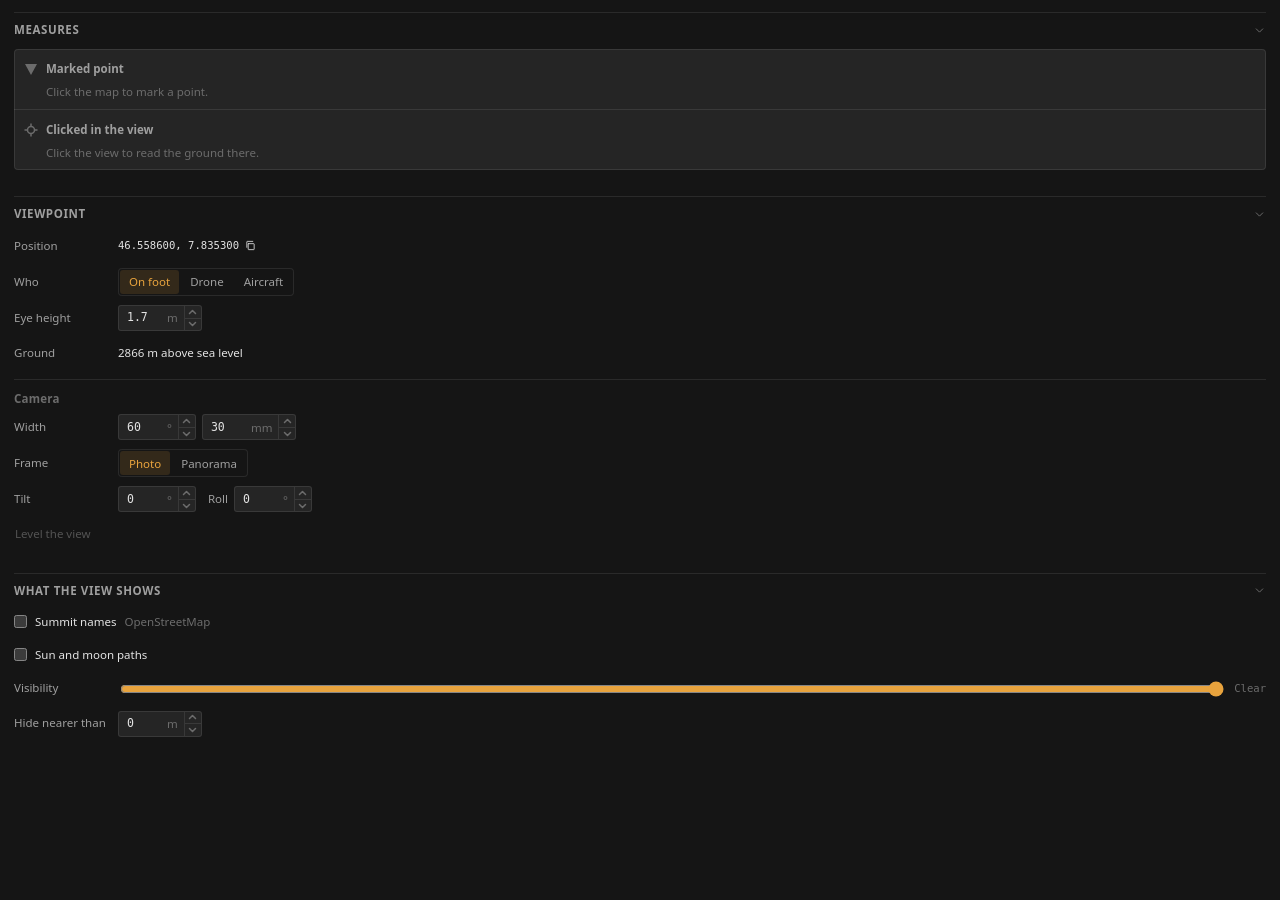
Test: the Horizon inspector › says which kind of eye is pressed, and names its height for it
What coordinates should you click on to do the following:
click the button "Drone"
I would click on:
 (207, 282)
Its box is [181,270,233,294].
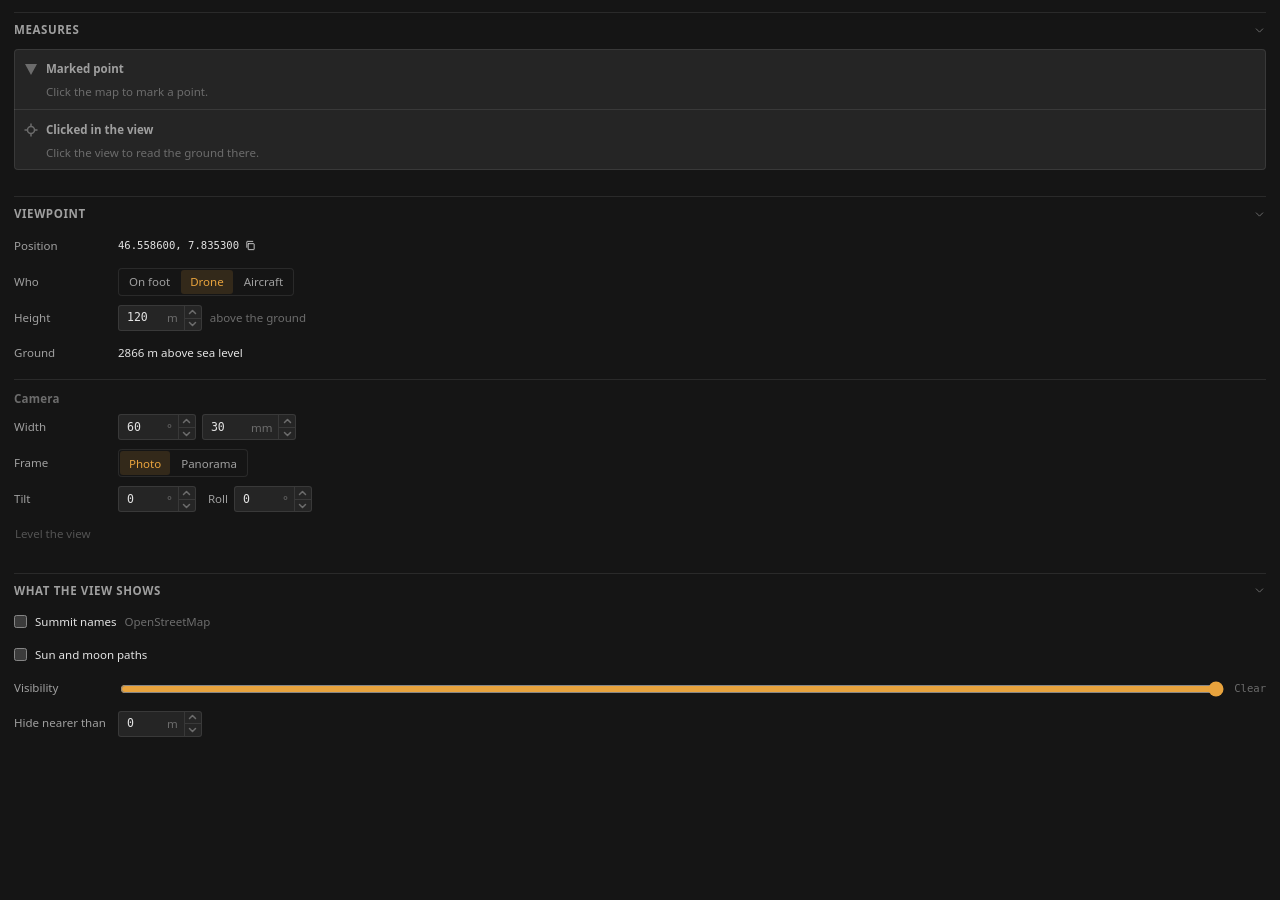
Expected: the text "Height" is shown, [14,310,50,325]
Expected: the text "above the ground" is shown, [210,309,306,327]
What coordinates should you click on to do the following:
click the button "Aircraft"
I would click on:
 (263, 282)
Its box is [235,270,292,294].
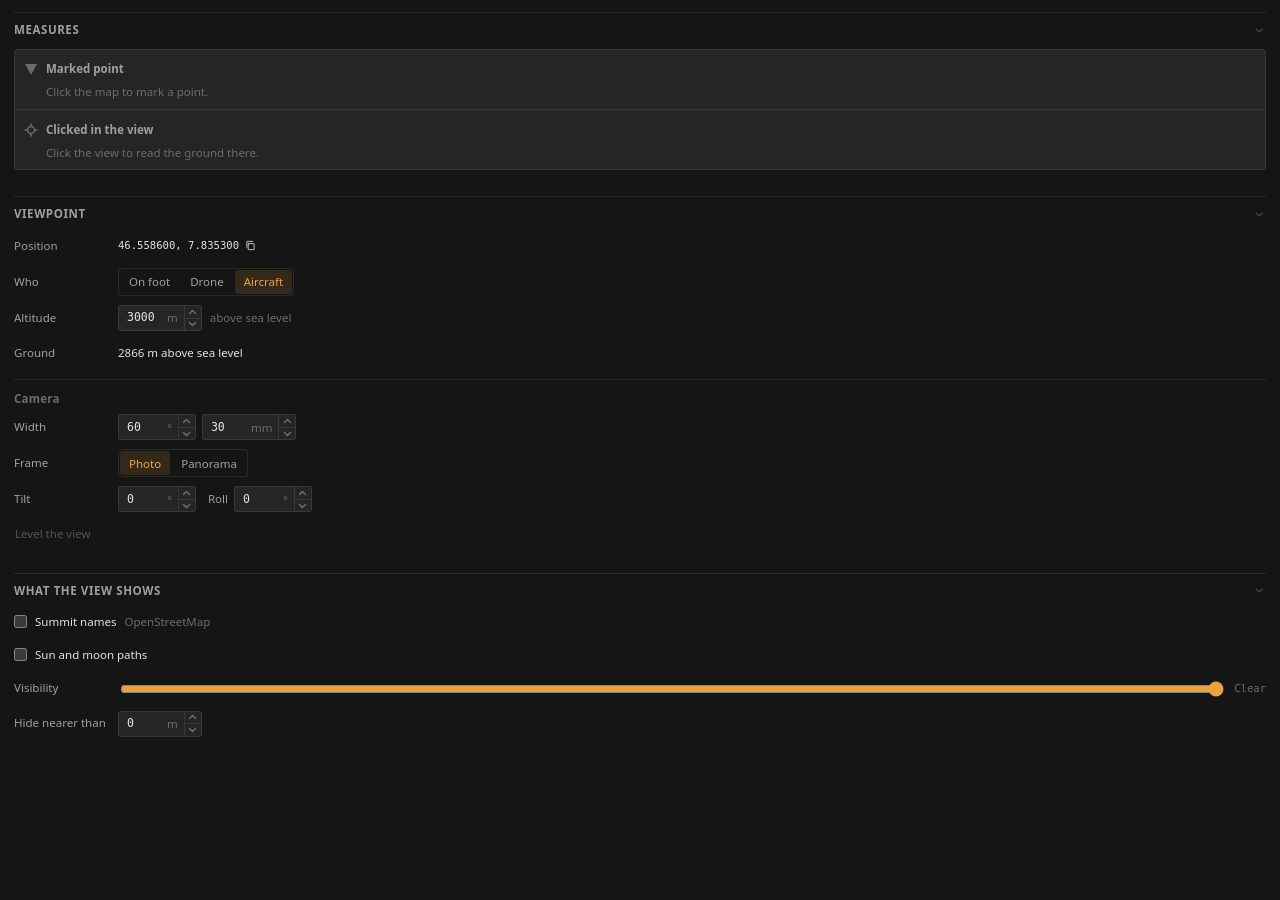
Expected: the text "above sea level" is shown, [210,309,291,327]
Expected: the text "Altitude" is shown, [14,310,56,325]
